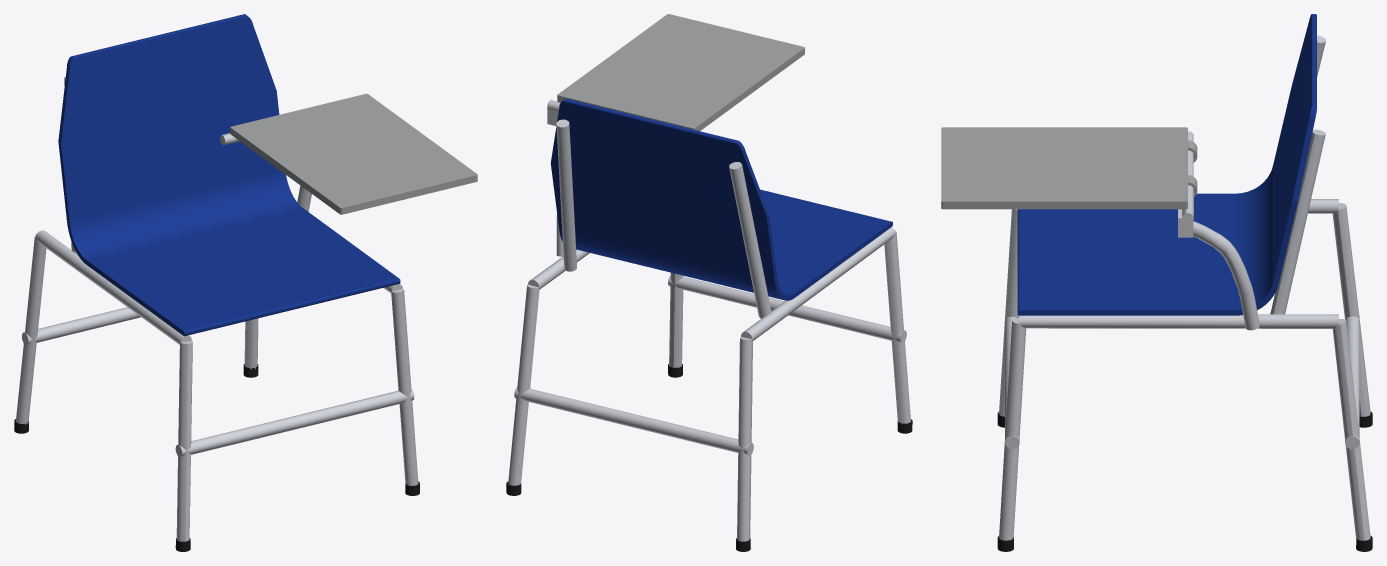
File: tabletchair.glb
3 views of the same model, side by side, from view 1: azimuth 30°, elevation 25°; view 2: azimuth 150°, elevation 25°; view 3: azimuth 270°, elevation 25° (orthographic). The views are drawn at different scales.
Parts seen in each view (by area): view 1: shell, tablet, frame; view 2: shell, frame, tablet; view 3: shell, frame, tablet.
Boxes of the visible parts, x1,y1,x2,y2 form: shell: (58,14,400,336); tablet: (230,93,477,214); frame: (14,77,419,551); shell: (550,98,892,300); frame: (506,99,912,551); tablet: (557,14,804,131); shell: (1017,14,1316,315); frame: (997,35,1372,551); tablet: (941,127,1197,209).
Bounding box in the file's own units: 0.6094 × 0.7995 × 0.734.
